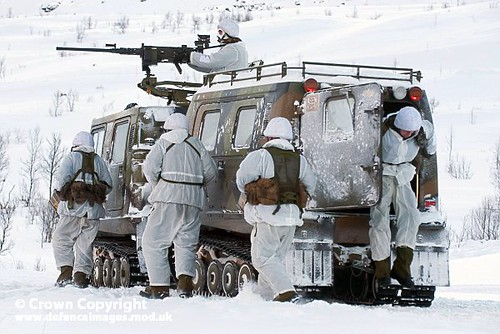soldier: (354, 92, 436, 291), (133, 104, 203, 307), (242, 109, 312, 312), (48, 133, 112, 293), (190, 13, 253, 77)
truck: (82, 73, 446, 298)
weapon: (54, 30, 201, 78)
